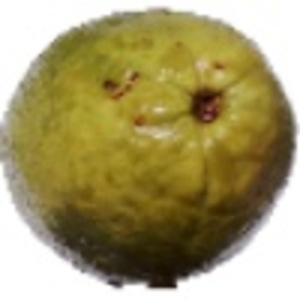goiaba: (3, 5, 294, 279)
